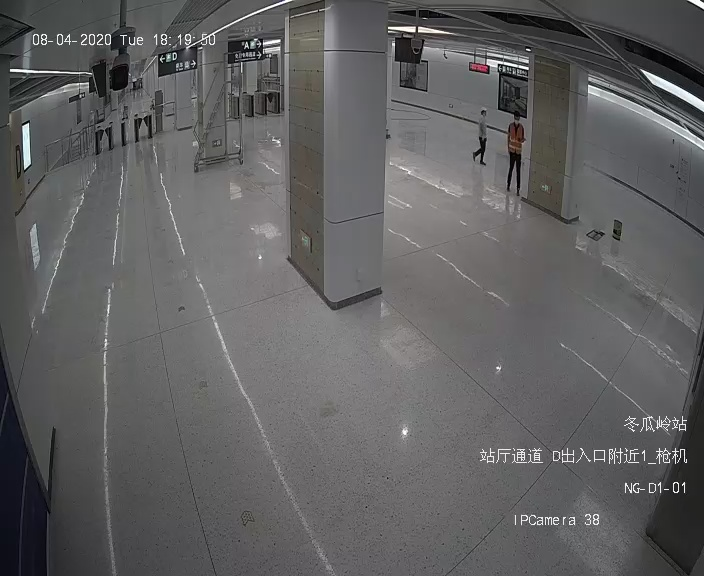smoke: (581, 179, 612, 226), (577, 120, 604, 167)
